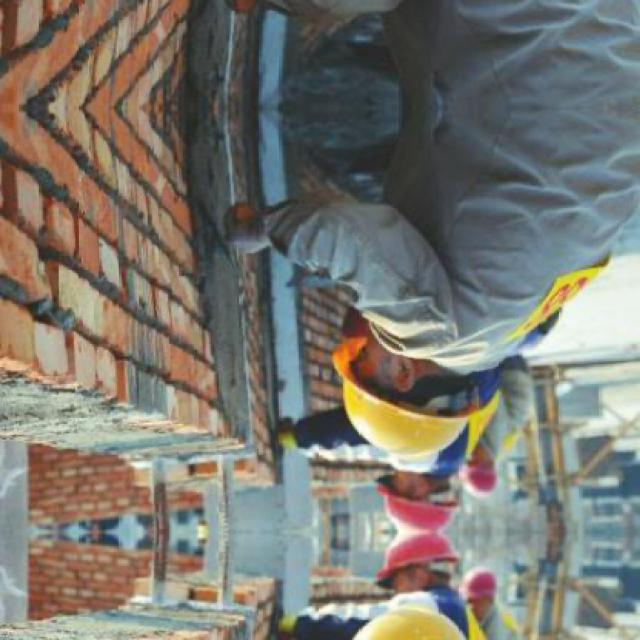con casco: (317, 300, 518, 456), (365, 469, 472, 541)
